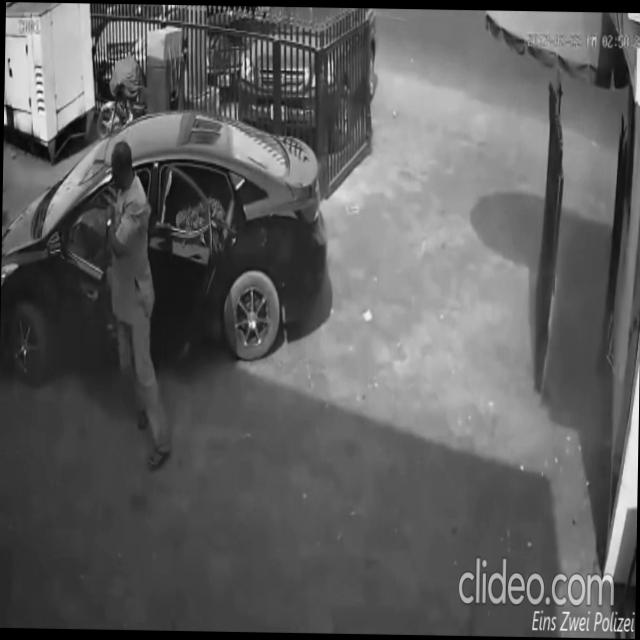gun: (197, 207, 240, 258)
person: (103, 137, 179, 474)
person with a gun: (172, 184, 241, 311)
